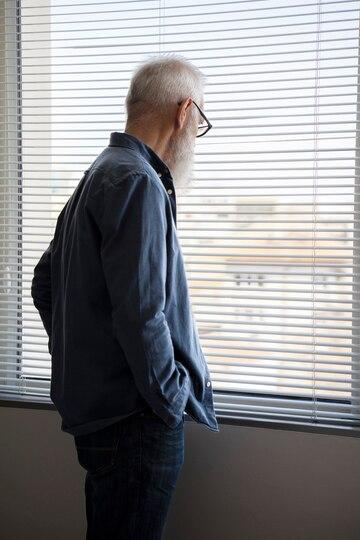Human: (32, 52, 258, 506)
